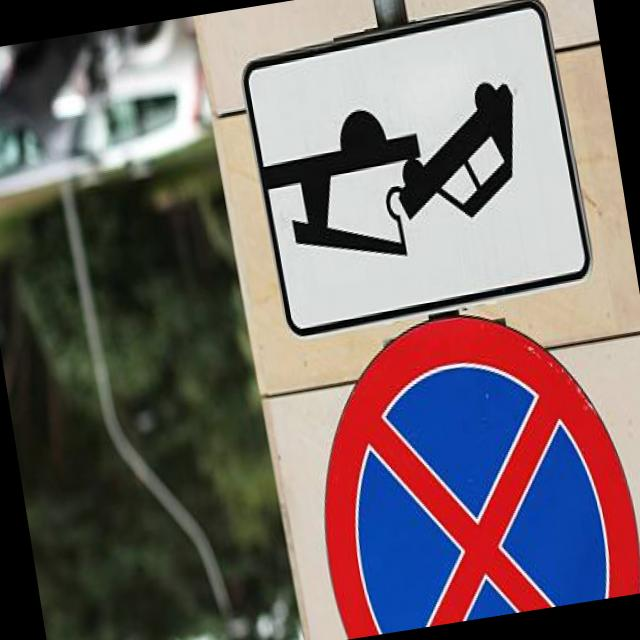no_parking: (279, 287, 640, 640)
